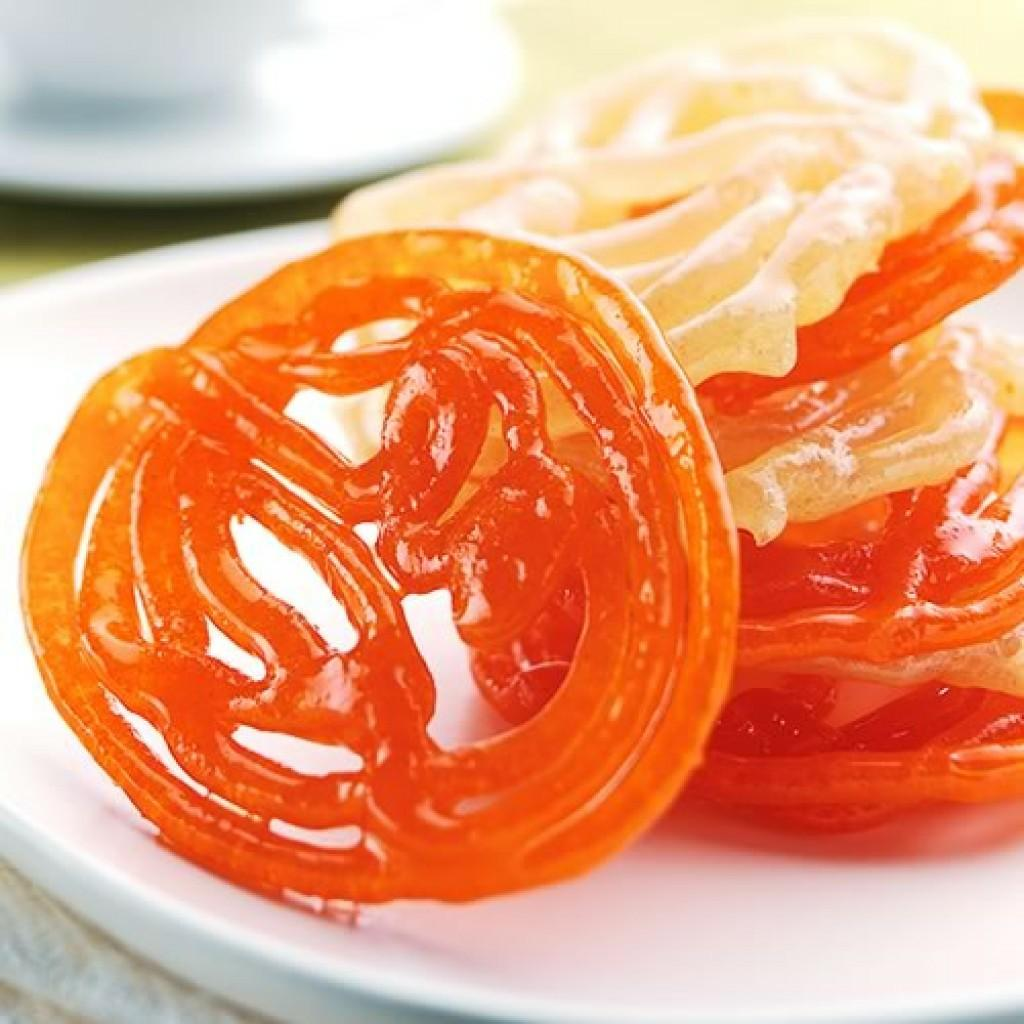Jalebi: (21, 14, 1024, 938)
